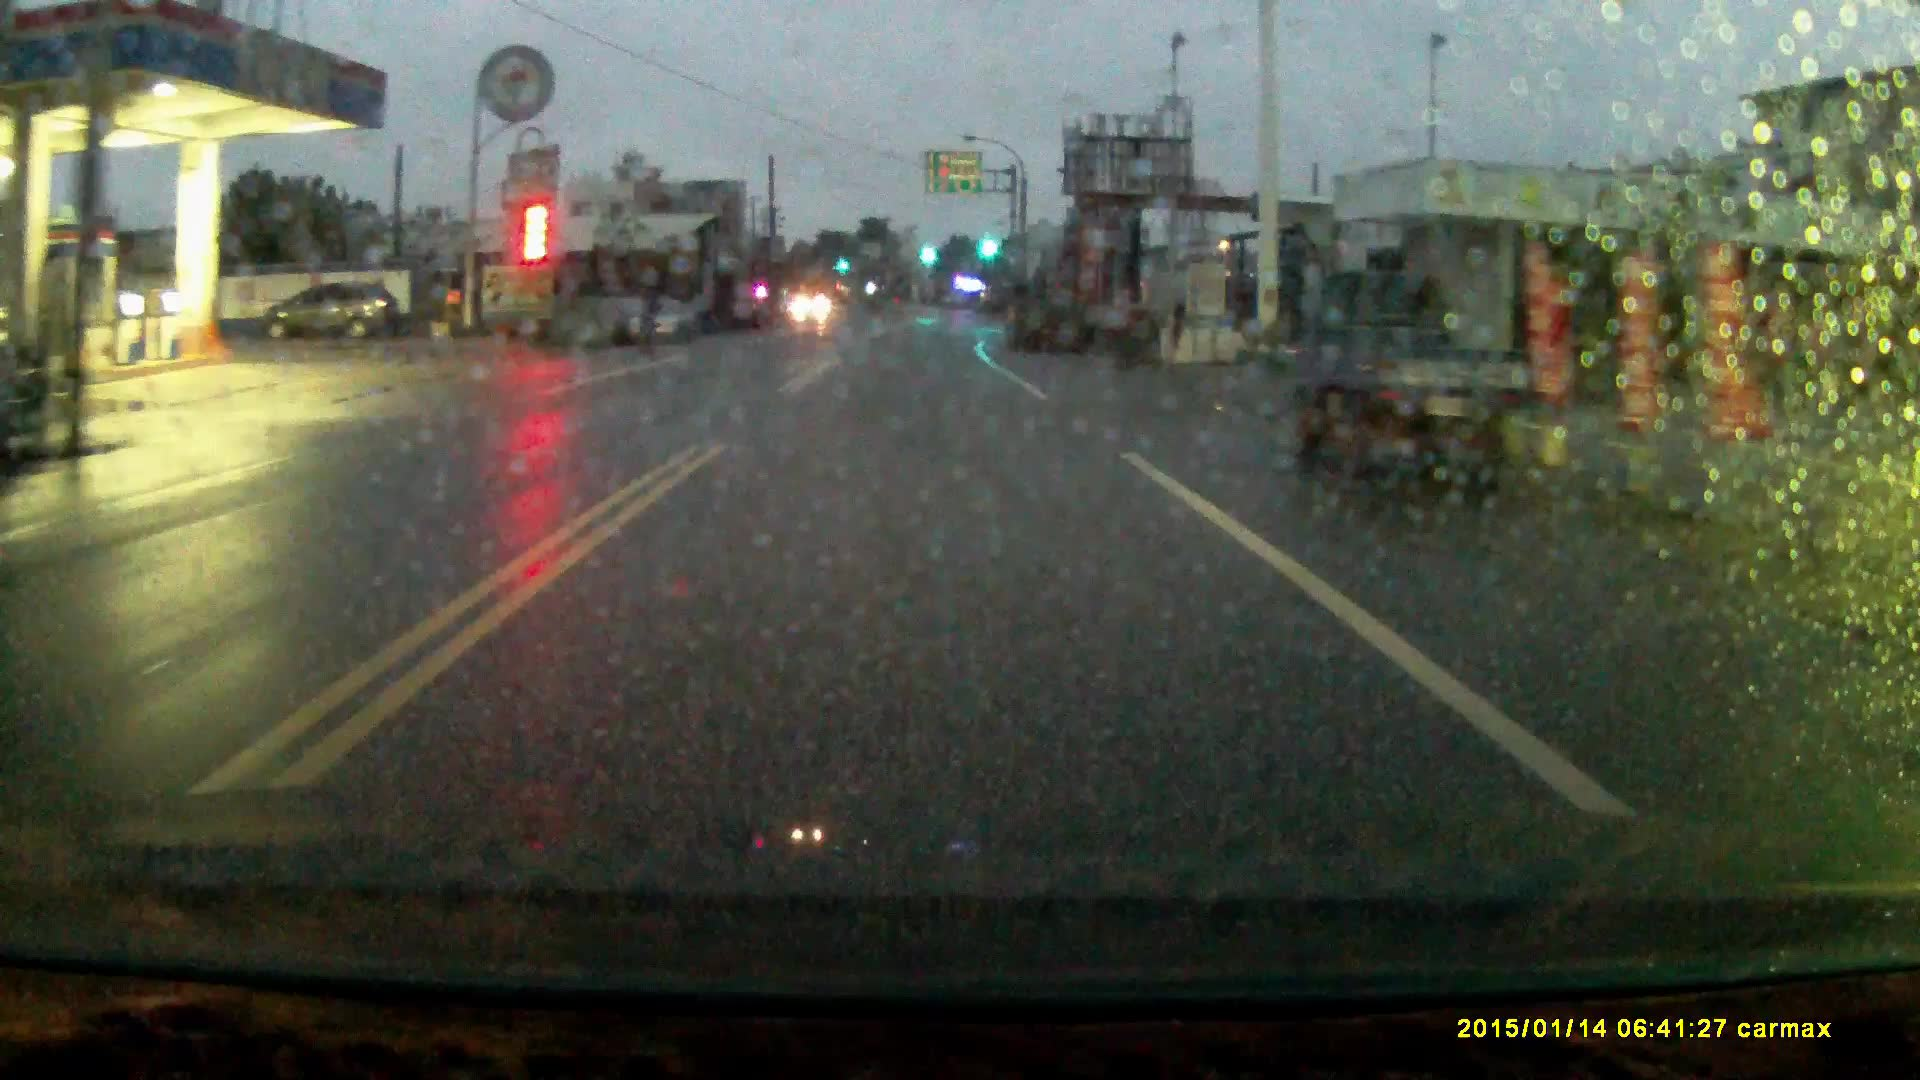rider: (639, 274, 665, 358)
vehicle: (1294, 268, 1536, 483), (262, 284, 399, 337), (1008, 275, 1092, 359), (629, 301, 704, 345)
